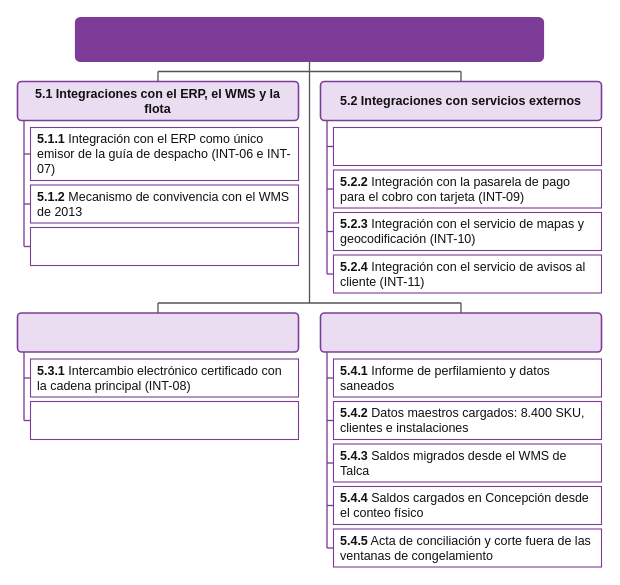
Image size: 620x585. Some labels were removed from this diagram. Each missing label, with the centre of its shape:
"5. Integraciones y datos migrados" goes at point 309,39.
"5.1.3 Integración con la telemetría de los 42 camiones propios (INT-15)" goes at point 164,246.
"5.2.1 Intercambio de lote y trazabilidad con los proveedores" goes at point 467,146.
"5.3 Intercambio electrónico con las cadenas" goes at point 157,332.
"5.3.2 Intercambio electrónico con las demás cadenas (INT-08)" goes at point 164,420.
"5.4 Migración de datos" goes at point 460,332.
